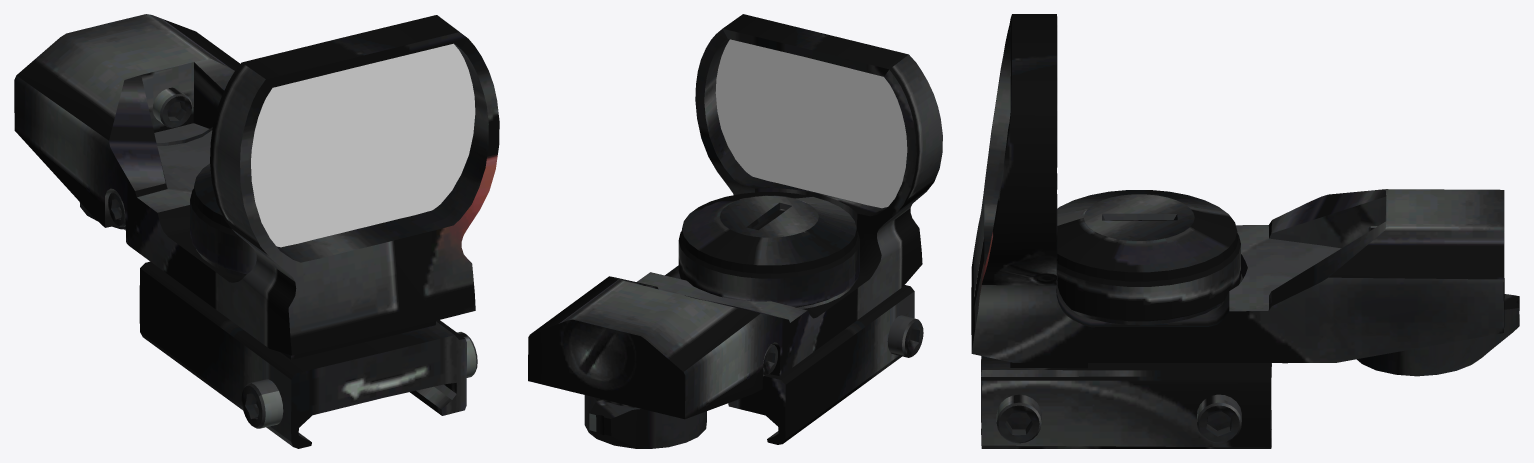
File: Red Dot Sight.fbx
3 views of the same model, side by side, from view 1: azimuth 30°, elevation 25°; view 2: azimuth 150°, elevation 25°; view 3: azimuth 270°, elevation 25° (orthographic). The views are drawn at different scales.
Parts seen in each view (by area): view 1: Body, Back; view 2: Body, Front; view 3: Body.
Part boxes in pixels (x1,y1,x2,y2): Body: (14, 14, 499, 448); Back: (251, 43, 475, 247); Body: (528, 14, 942, 448); Front: (715, 39, 907, 208); Body: (971, 14, 1519, 448).
Size of the model in its own units: 3.79 by 5.1 by 7.24.
